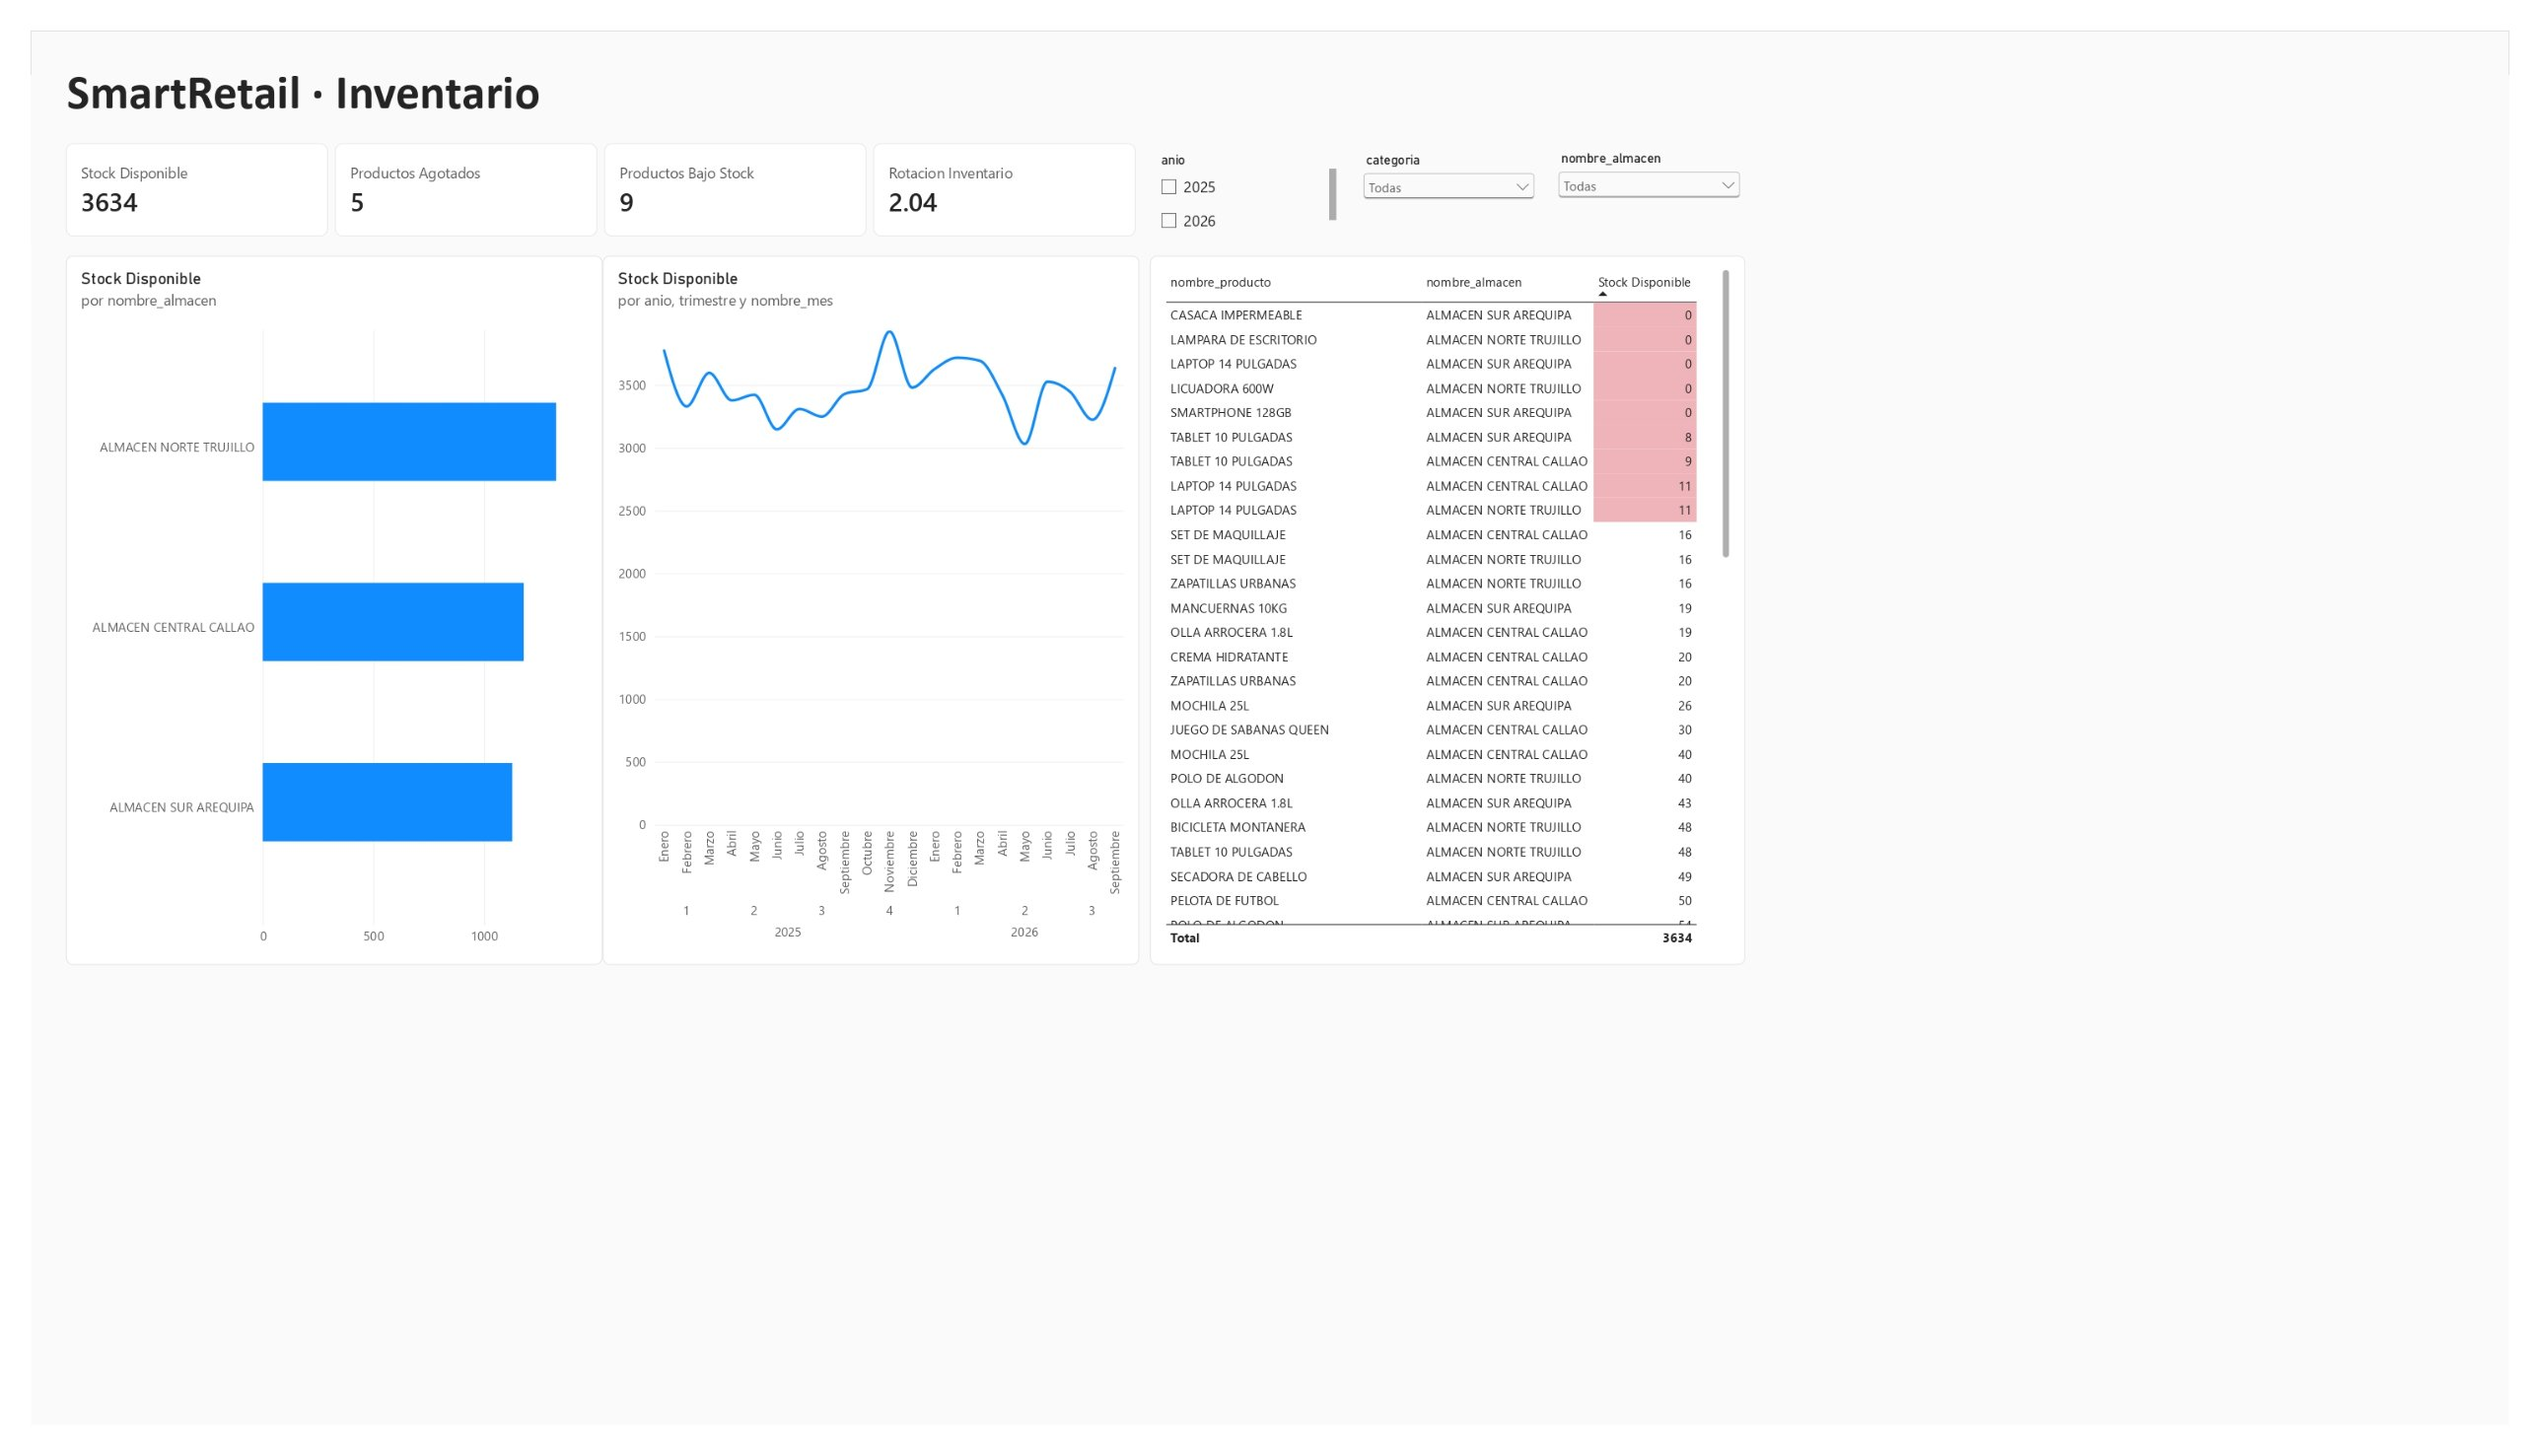

What the dashboard file says about the page in this screenshot:
{"tool":"powerbi","page":{"name":"Inventario","canvas":[1920,1080],"ordinal":3},"visuals":[{"type":"textbox","box":[39.4,34.7,732.4,75.6],"z":0},{"type":"cardVisual","fields":{"Data":["Fact_Inventario.Stock Disponible","Fact_Inventario.Productos Agotados","Fact_Inventario.Productos Bajo Stock","Fact_Ventas_Envios.Rotacion Inventario"]},"box":[39.2,123.6,1187.6,104],"z":1},{"type":"clusteredBarChart","fields":{"Category":["Dim_Almacen.nombre_almacen"],"Y":["Fact_Inventario.Stock Disponible"]},"box":[39.2,248.7,593.8,785.2],"z":2},{"type":"lineChart","fields":{"Category":["Dim_Tiempo.Calendario.anio","Dim_Tiempo.Calendario.trimestre","Dim_Tiempo.Calendario.nombre_mes"],"Y":["Fact_Inventario.Stock Disponible"]},"box":[633,249,594,785],"z":3},{"type":"tableEx","fields":{"Values":["Dim_Producto.nombre_producto","Dim_Almacen.nombre_almacen","Fact_Inventario.Stock Disponible"]},"box":[1238.8,248.7,658.6,785.2],"z":4},{"type":"slicer","fields":{"Values":["Dim_Tiempo.anio"]},"box":[1243.3,134.1,201.9,87.4],"z":5},{"type":"slicer","fields":{"Values":["Dim_Producto.categoria"]},"box":[1469.4,134.1,198.9,87.4],"z":6},{"type":"slicer","fields":{"Values":["Dim_Almacen.nombre_almacen"]},"box":[1686.4,132.6,211,87.4],"z":7}]}

Visuals, with their boxes in screenshot pixels (x1, y1, x2, y2), scaled from the page's 1920x1080 canvas onto the 2540x1456 screenshot:
textbox: pyautogui.locateOnScreen(52, 46, 1021, 149)
cardVisual - Fact_Inventario.Stock Disponible x Fact_Inventario.Productos Agotados: pyautogui.locateOnScreen(52, 167, 1623, 307)
clusteredBarChart - Dim_Almacen.nombre_almacen x Fact_Inventario.Stock Disponible: pyautogui.locateOnScreen(52, 335, 837, 1394)
lineChart - Dim_Tiempo.Calendario.anio x Dim_Tiempo.Calendario.trimestre: pyautogui.locateOnScreen(837, 336, 1623, 1394)
tableEx - Dim_Producto.nombre_producto x Dim_Almacen.nombre_almacen: pyautogui.locateOnScreen(1639, 335, 2510, 1394)
slicer - Dim_Tiempo.anio: pyautogui.locateOnScreen(1645, 180, 1912, 299)
slicer - Dim_Producto.categoria: pyautogui.locateOnScreen(1943, 180, 2207, 299)
slicer - Dim_Almacen.nombre_almacen: pyautogui.locateOnScreen(2231, 178, 2510, 297)
